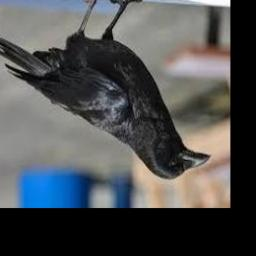Crow: (0, 0, 212, 181)
